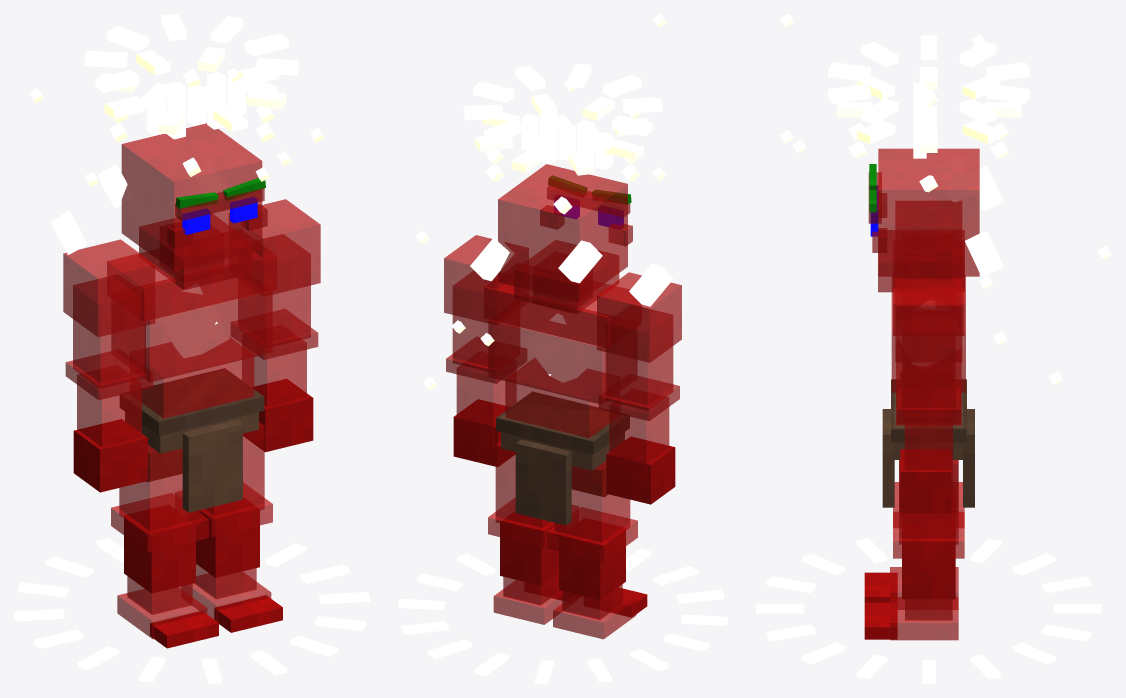
File: spirit_s4_evo3.glb
3 renders of one model, left to right at view 1: azimuth 30°, elevation 25°; view 2: azimuth 150°, elevation 25°; view 3: azimuth 270°, elevation 25°, orthographic. The views are drawn at different scales.
Visible parts, largest first — view 1: Torso, Head, ArmR, ArmL, LegR, LegL, Root; view 2: Torso, Head, ArmR, ArmL, LegR, LegL, Root; view 3: Head, Torso, ArmL, LegL, Root, LegR, ArmR.
Boxes of the visible parts, x1,y1,x2,y2 form: Torso: (29, 67, 323, 512); Head: (84, 14, 299, 290); ArmR: (63, 239, 155, 492); ArmL: (229, 199, 320, 452); LegR: (111, 445, 218, 648); LegL: (175, 422, 282, 632); Root: (14, 538, 369, 683); Torso: (415, 14, 673, 525); Head: (463, 63, 662, 313); ArmR: (597, 272, 681, 504); ArmL: (444, 235, 528, 466); LegR: (547, 461, 647, 639); LegL: (488, 441, 578, 624); Root: (398, 548, 727, 683); Head: (828, 35, 1029, 292); Torso: (780, 14, 1111, 507); ArmL: (895, 278, 962, 513); LegL: (864, 460, 964, 640); Root: (756, 538, 1101, 683); LegR: (864, 460, 964, 609); ArmR: (896, 201, 961, 229).
Size of the model in its own units: 1.16 by 2.16 by 1.19.
20 materials, 20 textured.
